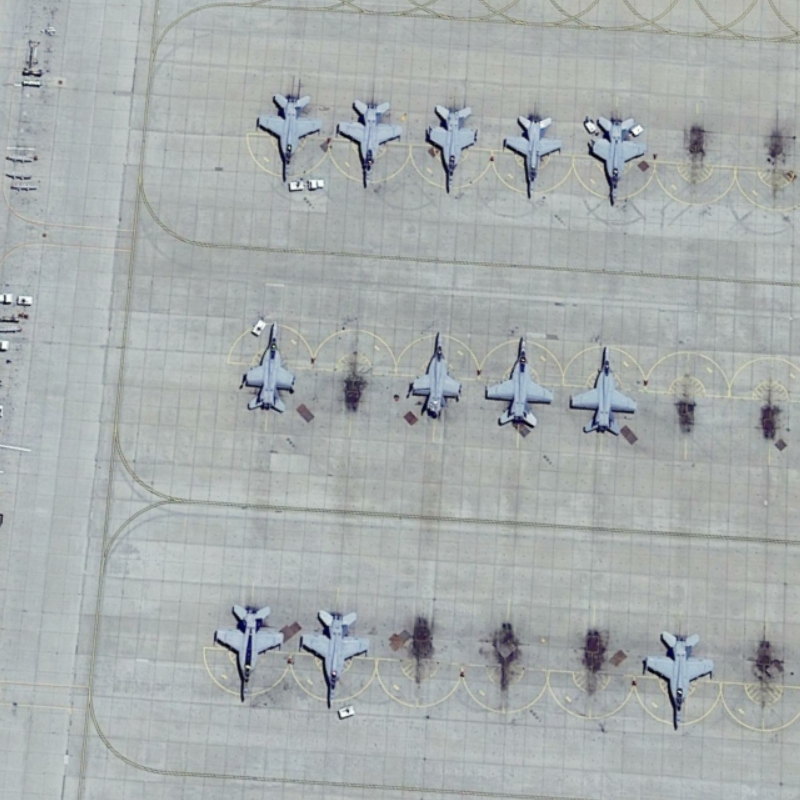A16: (640, 624, 718, 737), (212, 598, 290, 705), (294, 604, 372, 711), (478, 330, 558, 433), (333, 94, 407, 197), (566, 339, 640, 440), (251, 89, 326, 187), (585, 107, 648, 211), (500, 108, 566, 203), (402, 325, 466, 421), (422, 98, 482, 199), (238, 316, 298, 417)
